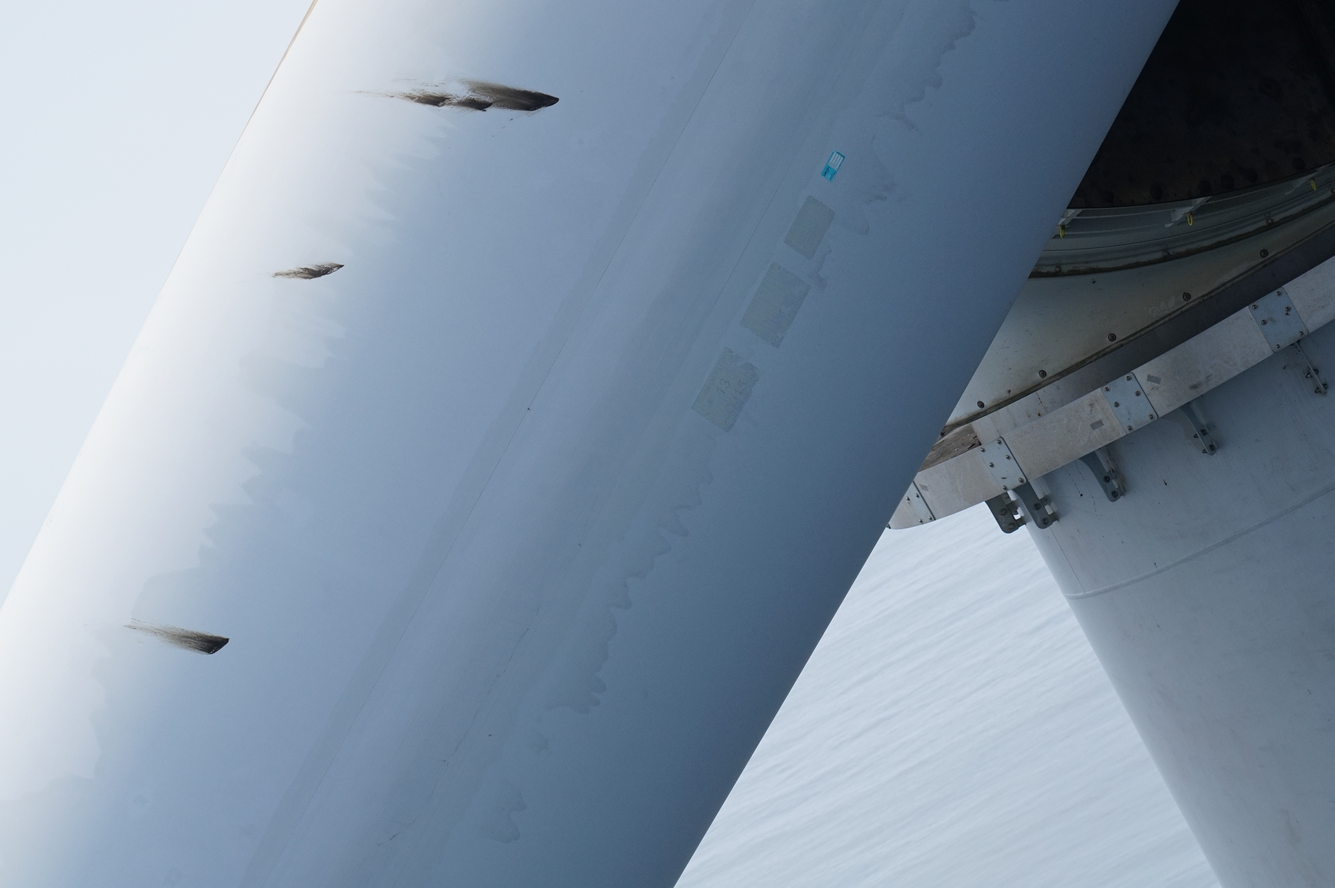Dirt: (382, 74, 568, 120), (126, 614, 236, 663), (269, 260, 349, 280)
